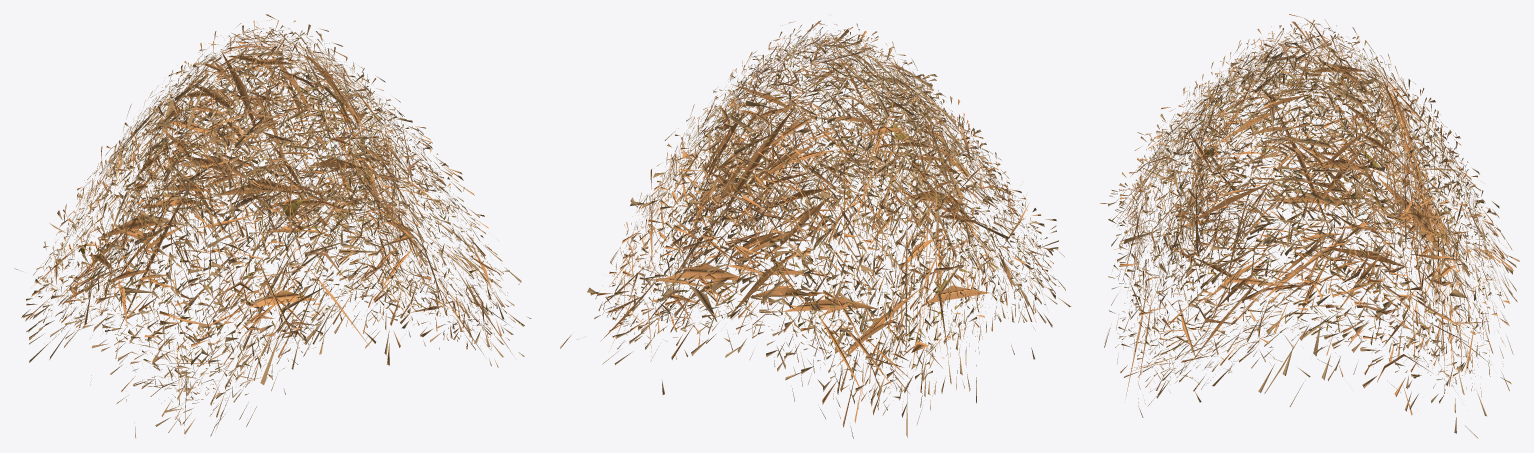
Rendered from hay_scan.glb.
The picture shows the model from 3 angles, left to right: view 1: azimuth 30°, elevation 25°; view 2: azimuth 150°, elevation 25°; view 3: azimuth 270°, elevation 25°; orthographic projection. The views are drawn at different scales.
Visible parts, largest first — view 1: Object_4, Object_5, Object_8, Object_6, Object_9, Object_7, Object_13, Object_14, Object_10, Object_11, Object_12, Object_15; view 2: Object_6, Object_9, Object_4, Object_5, Object_8, Object_7, Object_14, Object_13, Object_12, Object_11, Object_15, Object_10; view 3: Object_5, Object_8, Object_4, Object_6, Object_9, Object_7, Object_14, Object_13, Object_11, Object_10, Object_12, Object_15.
Boxes of the visible parts, x1=… form: Object_4: x1=81, y1=14, x2=492, y2=426; Object_5: x1=130, y1=33, x2=531, y2=436; Object_8: x1=121, y1=50, x2=513, y2=403; Object_6: x1=14, y1=51, x2=298, y2=438; Object_9: x1=25, y1=52, x2=290, y2=400; Object_7: x1=101, y1=20, x2=457, y2=364; Object_13: x1=114, y1=22, x2=447, y2=366; Object_14: x1=138, y1=43, x2=505, y2=431; Object_10: x1=130, y1=32, x2=449, y2=395; Object_11: x1=114, y1=50, x2=505, y2=414; Object_12: x1=46, y1=68, x2=217, y2=343; Object_15: x1=43, y1=49, x2=231, y2=351; Object_6: x1=629, y1=71, x2=1059, y2=438; Object_9: x1=629, y1=90, x2=1041, y2=427; Object_4: x1=639, y1=21, x2=1044, y2=287; Object_5: x1=560, y1=56, x2=1071, y2=394; Object_8: x1=596, y1=59, x2=1053, y2=356; Object_7: x1=657, y1=24, x2=1007, y2=266; Object_14: x1=605, y1=84, x2=1055, y2=359; Object_13: x1=676, y1=20, x2=1015, y2=248; Object_12: x1=773, y1=113, x2=1021, y2=391; Object_11: x1=614, y1=73, x2=1050, y2=326; Object_15: x1=775, y1=100, x2=1013, y2=410; Object_10: x1=676, y1=37, x2=1031, y2=251; Object_5: x1=1109, y1=61, x2=1516, y2=438; Object_8: x1=1119, y1=75, x2=1510, y2=415; Object_4: x1=1100, y1=19, x2=1464, y2=364; Object_6: x1=1155, y1=31, x2=1519, y2=354; Object_9: x1=1181, y1=36, x2=1517, y2=353; Object_7: x1=1111, y1=14, x2=1461, y2=325; Object_14: x1=1112, y1=74, x2=1496, y2=397; Object_13: x1=1112, y1=18, x2=1426, y2=307; Object_11: x1=1140, y1=68, x2=1503, y2=367; Object_10: x1=1125, y1=36, x2=1428, y2=292; Object_12: x1=1222, y1=60, x2=1477, y2=250; Object_15: x1=1219, y1=64, x2=1487, y2=282.
Bounding box in the file's own units: 3.95 × 3.26 × 3.63.
